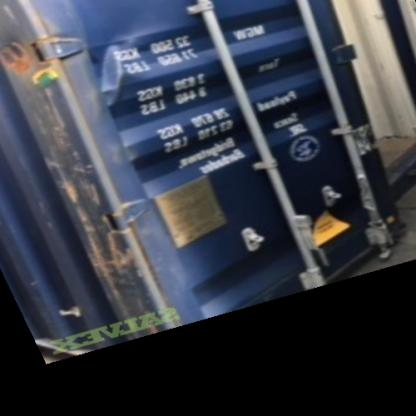Damage: (5, 25, 87, 212), (92, 198, 163, 314), (91, 35, 132, 100)
